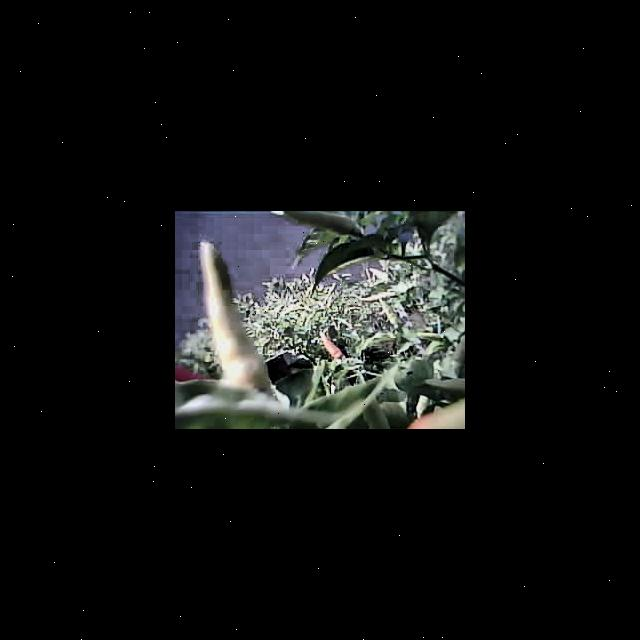Cabai: (318, 332, 343, 360)
